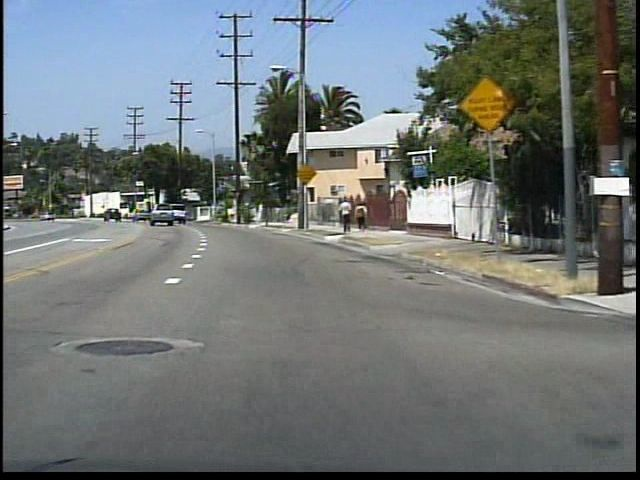person: (337, 196, 354, 237), (353, 201, 369, 233)
